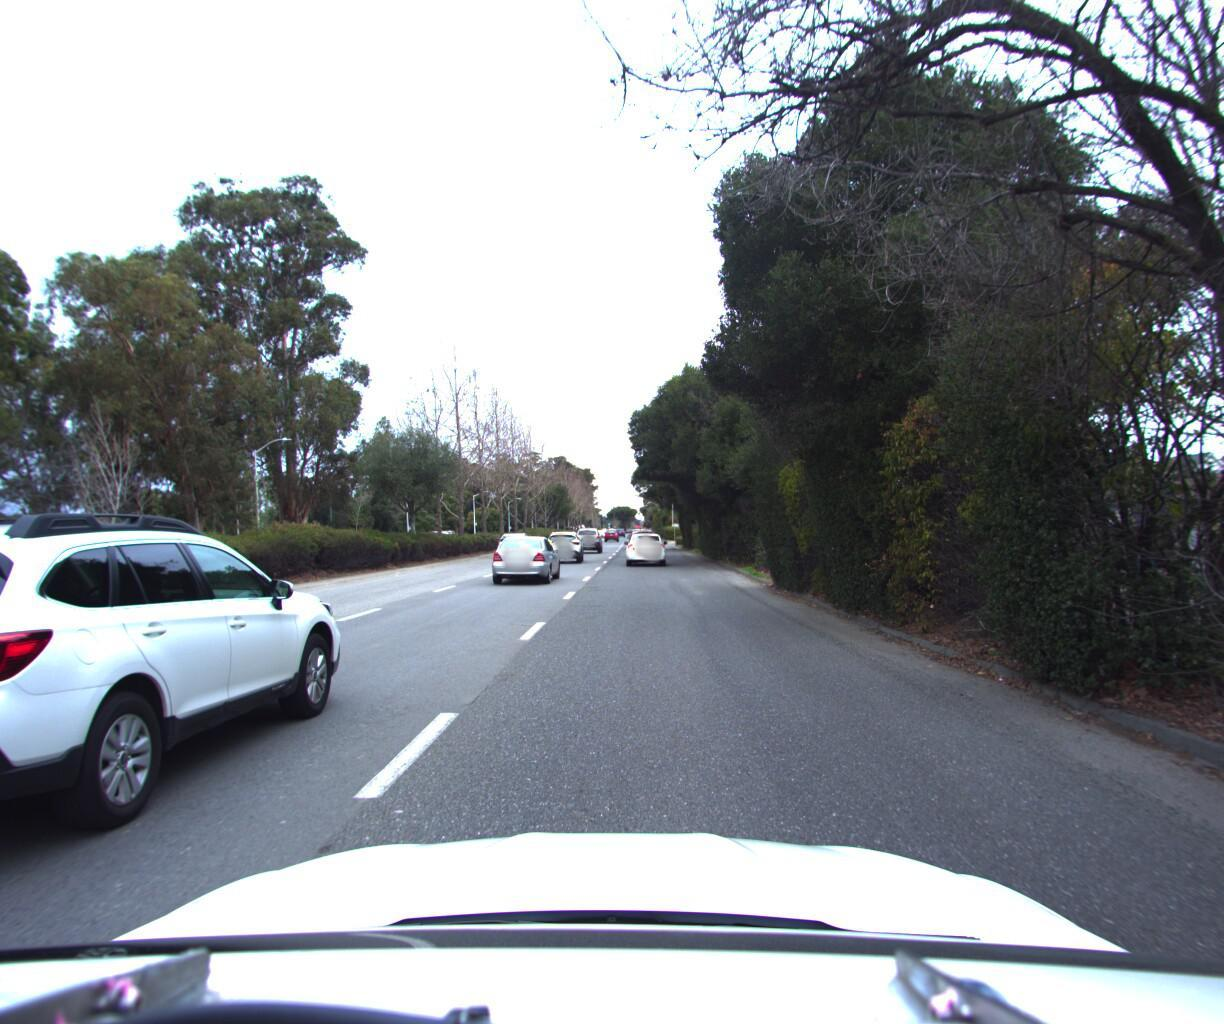car: (0, 491, 366, 921), (482, 530, 567, 584), (624, 528, 666, 566), (545, 528, 586, 562), (489, 528, 535, 556), (573, 523, 604, 552)
